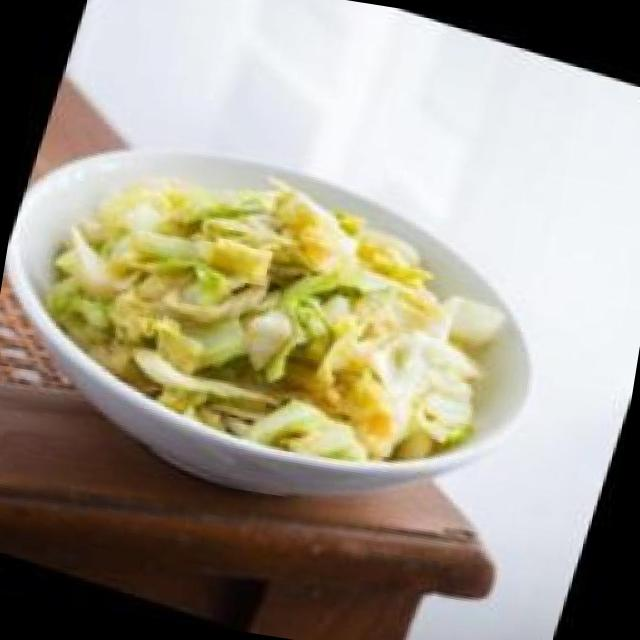chinese_cabbage: (25, 129, 521, 496)
